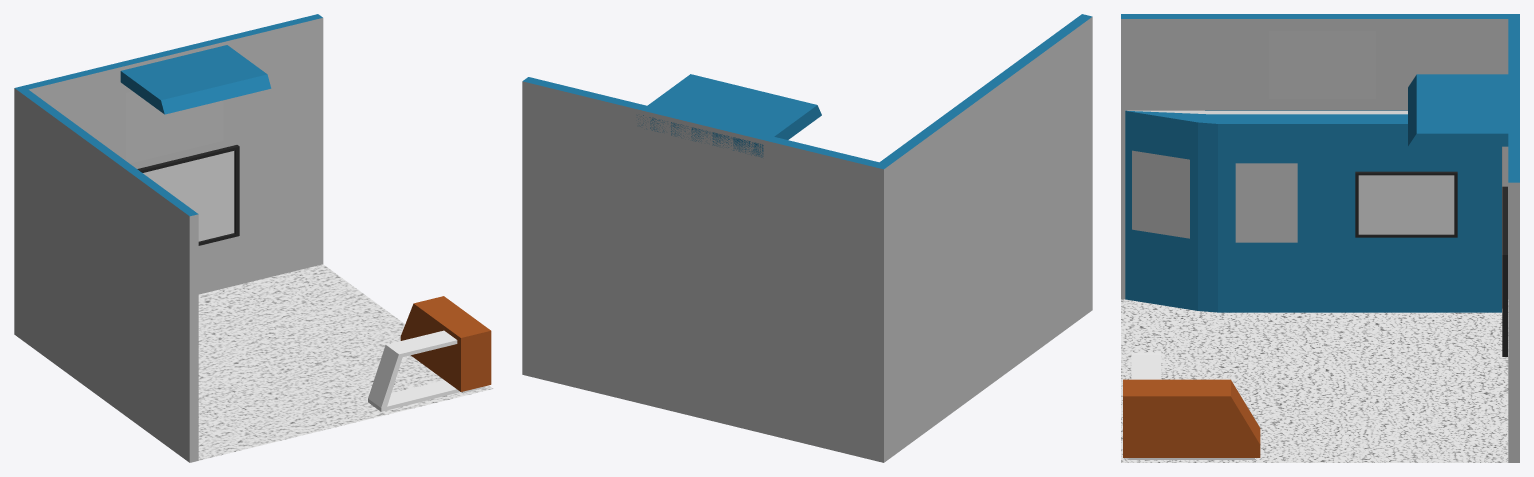
Rendered from Booth3.fbx.
3 views of the same model, side by side, from view 1: azimuth 30°, elevation 25°; view 2: azimuth 150°, elevation 25°; view 3: azimuth 270°, elevation 25° (orthographic). The views are drawn at different scales.
Visible parts, largest first — view 1: Plane.007, Plane.006, Cube.040, Cube.038, LogoCubeStudioFinalOriginal.005; view 2: Plane.007; view 3: Plane.007, Plane.006, Cube.040, LogoCubeStudioFinalOriginal.004, Cube.039, CV_MuhamadAndriSaputro_v3.004, CV_MuhamadAndriSaputro_v3.005, Plane.008, Cube.038.
Part boxes in pixels (x1=…): Plane.007: x1=14, y1=14, x2=323, y2=462; Plane.006: x1=198, y1=264, x2=493, y2=460; Cube.040: x1=368, y1=296, x2=491, y2=411; Cube.038: x1=137, y1=145, x2=239, y2=245; LogoCubeStudioFinalOriginal.005: x1=126, y1=91, x2=223, y2=163; Plane.007: x1=522, y1=14, x2=1092, y2=462; Plane.007: x1=1121, y1=14, x2=1519, y2=462; Plane.006: x1=1121, y1=299, x2=1508, y2=462; Cube.040: x1=1123, y1=352, x2=1260, y2=459; LogoCubeStudioFinalOriginal.004: x1=1269, y1=30, x2=1376, y2=99; Cube.039: x1=1355, y1=171, x2=1457, y2=237; CV_MuhamadAndriSaputro_v3.004: x1=1235, y1=163, x2=1297, y2=242; CV_MuhamadAndriSaputro_v3.005: x1=1132, y1=150, x2=1189, y2=238; Plane.008: x1=1127, y1=110, x2=1407, y2=114; Cube.038: x1=1502, y1=186, x2=1507, y2=356.
Size of the model in its own units: 600 by 465 by 600.
